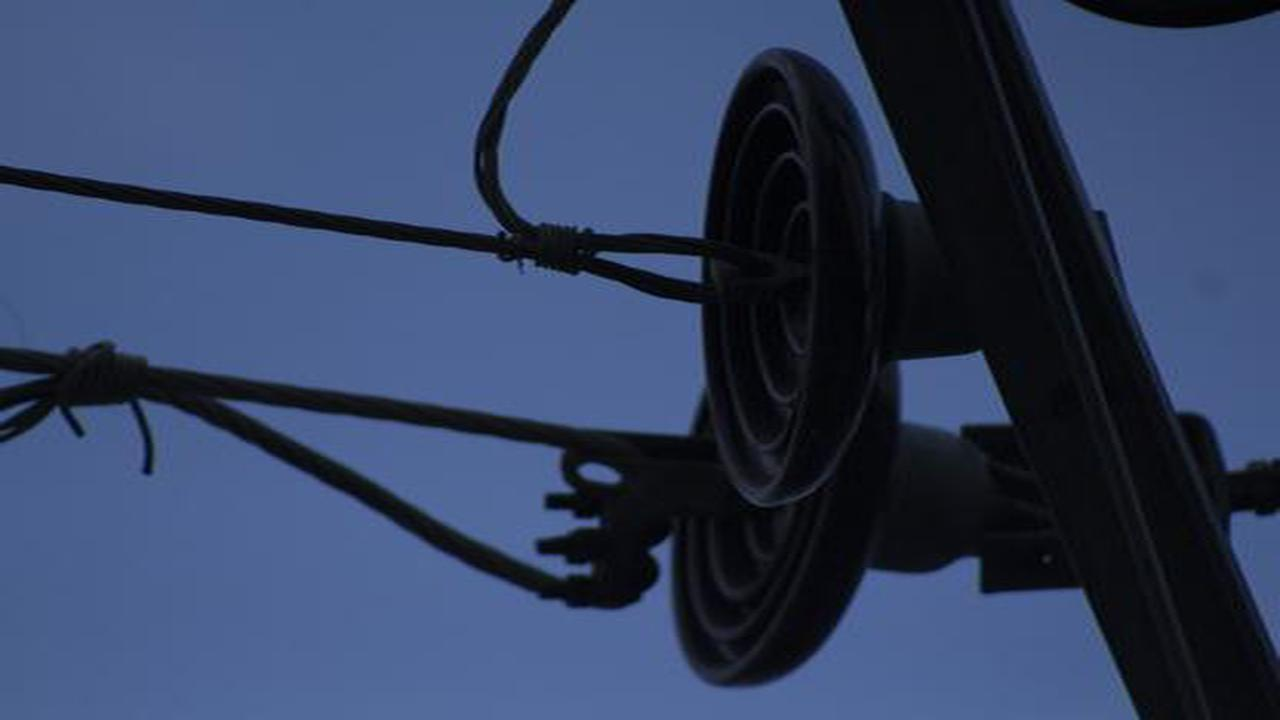insulator_disc: (684, 41, 918, 499), (650, 376, 910, 691)
